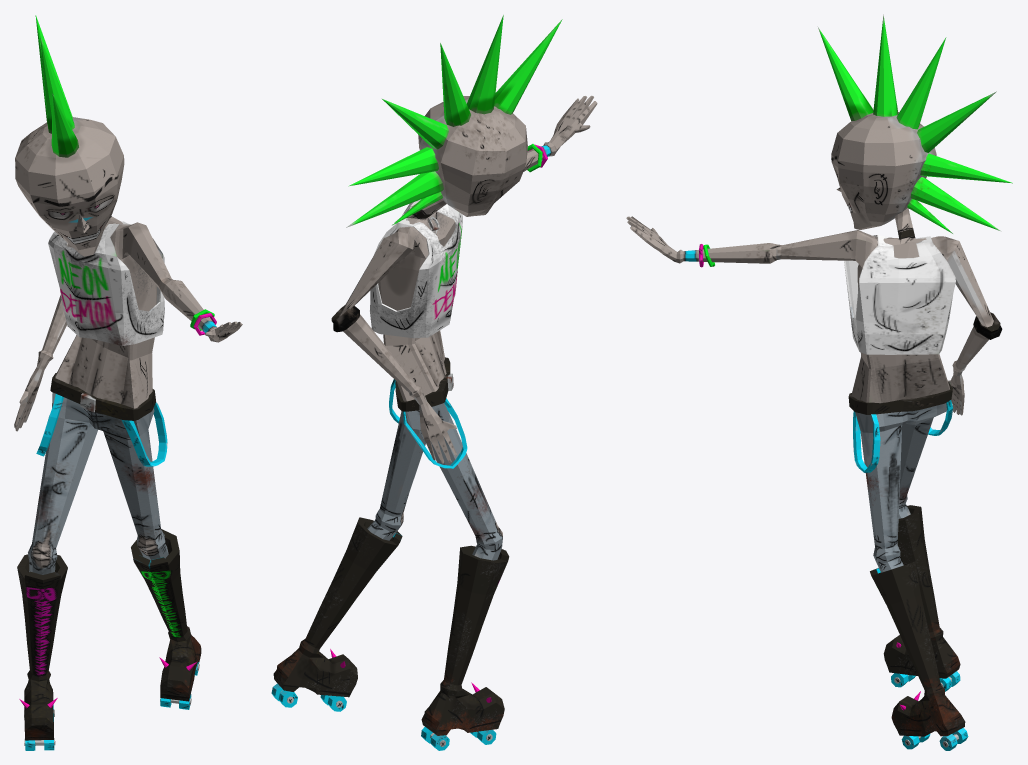
Rendered from punkAnimation_000018.obj.
3 views of the same model, side by side, from view 1: azimuth 30°, elevation 25°; view 2: azimuth 150°, elevation 25°; view 3: azimuth 270°, elevation 25° (orthographic). The views are drawn at different scales.
Visible parts, largest first — view 1: Cube.004_Cube.003; view 2: Cube.004_Cube.003; view 3: Cube.004_Cube.003.
Part boxes in pixels (<box>): Cube.004_Cube.003: <box>14,15,242,750</box>; Cube.004_Cube.003: <box>271,15,597,750</box>; Cube.004_Cube.003: <box>626,14,1012,750</box>.
Bounding box in the file's own units: 2.34 × 7.35 × 3.88.
